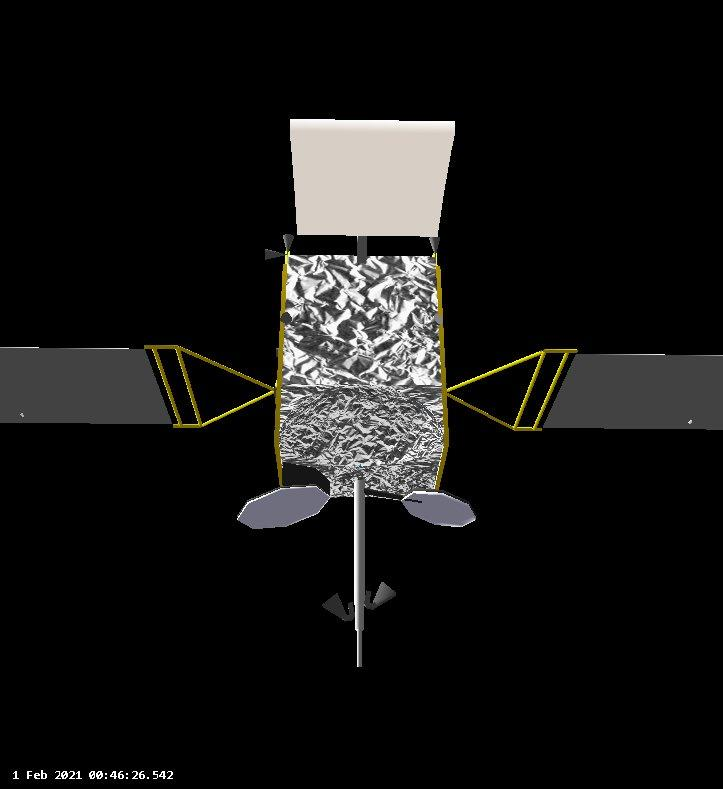antenna: (287, 114, 458, 241), (232, 482, 335, 533), (398, 488, 479, 535)
body: (270, 250, 448, 493)
solar: (0, 334, 277, 431), (442, 342, 723, 437)
thruster: (363, 578, 402, 623), (317, 588, 353, 632), (258, 243, 286, 265), (425, 230, 445, 255), (279, 232, 296, 255)
